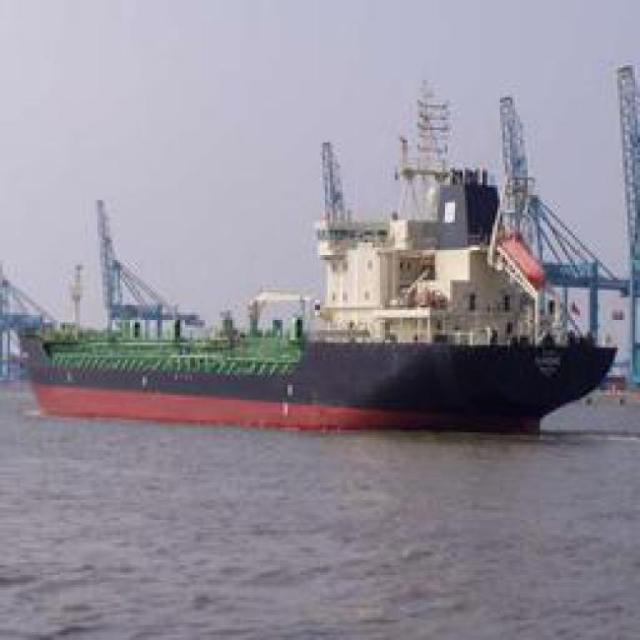boat: (7, 244, 624, 453)
